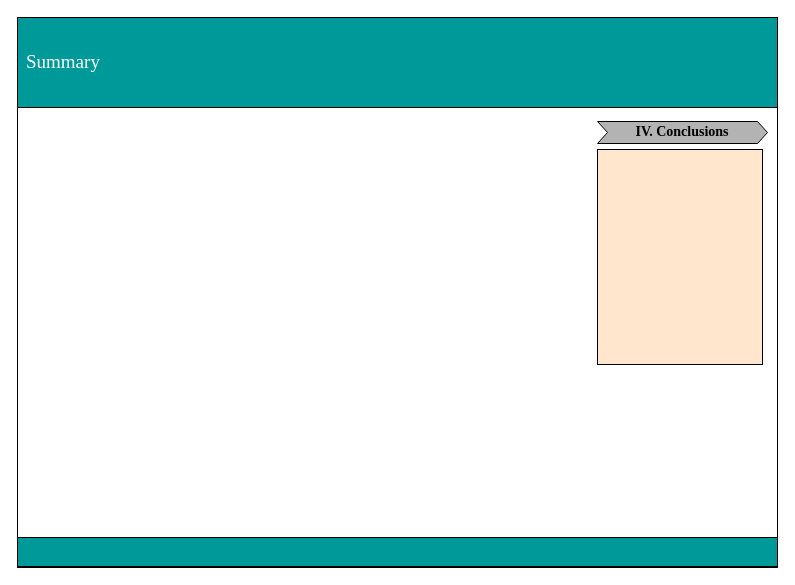
This 795x585 diagram has some shape labels left out. Each missing label, with the box of its shape:
Graphical abstract by: XYZ: (16, 536, 778, 566)
Test: (596, 148, 762, 364)
